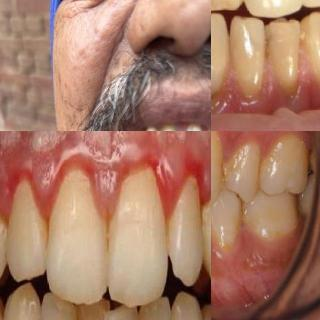Gum Swelling: (0, 144, 211, 224), (215, 131, 255, 157)
maligned: (166, 169, 208, 295), (70, 292, 110, 320)
plaque: (0, 214, 22, 258), (195, 190, 211, 240), (220, 151, 233, 191), (211, 202, 215, 238)
